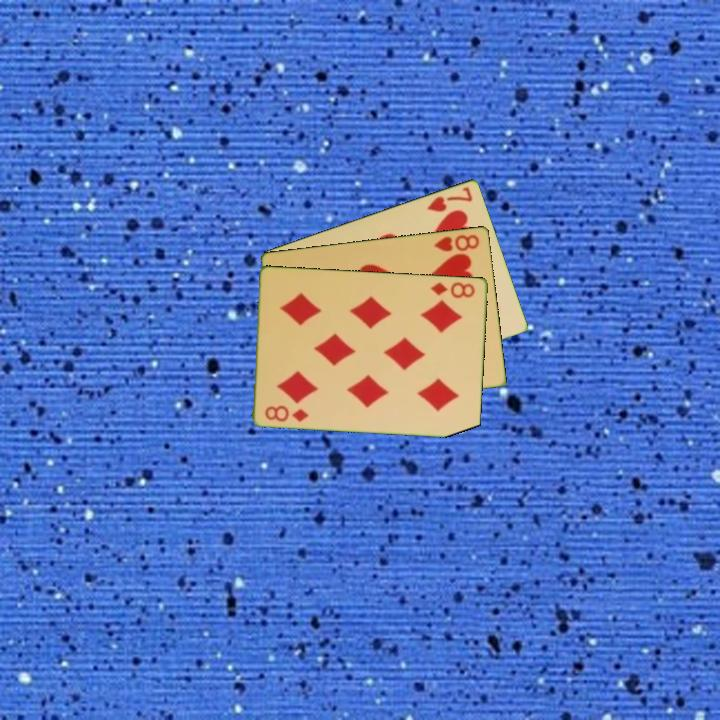7h: (423, 183, 476, 214)
8d: (428, 278, 478, 301), (262, 401, 311, 424)
8h: (431, 231, 482, 254)
